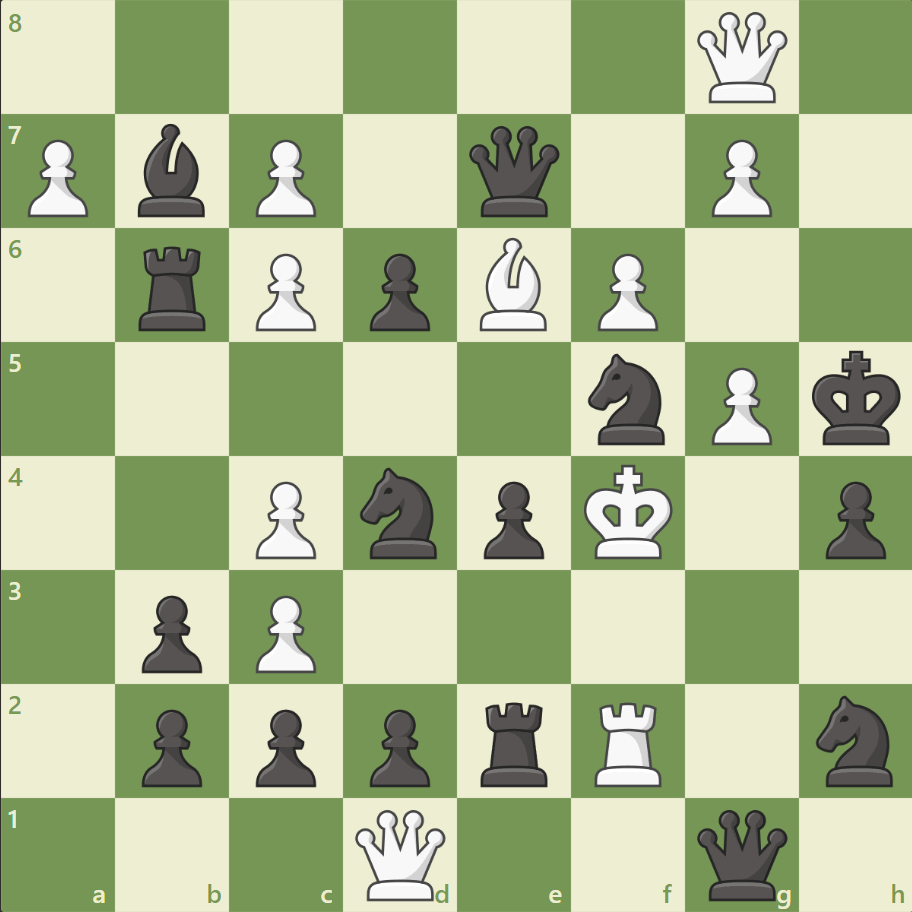B: (471, 233, 555, 336)
K: (579, 458, 679, 566)
P: (20, 132, 95, 223), (247, 132, 322, 223), (701, 132, 776, 223), (247, 246, 322, 337), (701, 359, 776, 450), (247, 473, 322, 564), (247, 586, 322, 677), (588, 246, 662, 337)
Q: (691, 9, 790, 108), (351, 804, 450, 903)
R: (587, 693, 670, 790)
b: (131, 120, 215, 222)
k: (806, 344, 906, 452)
n: (351, 461, 449, 564), (806, 688, 903, 791), (579, 348, 676, 450)
p: (474, 473, 549, 564), (133, 586, 208, 677), (133, 700, 208, 791), (247, 700, 322, 791), (361, 246, 435, 337), (815, 473, 889, 564), (361, 700, 435, 791)
q: (464, 122, 563, 222), (691, 804, 790, 903)
r: (473, 693, 556, 790), (133, 239, 215, 336)
